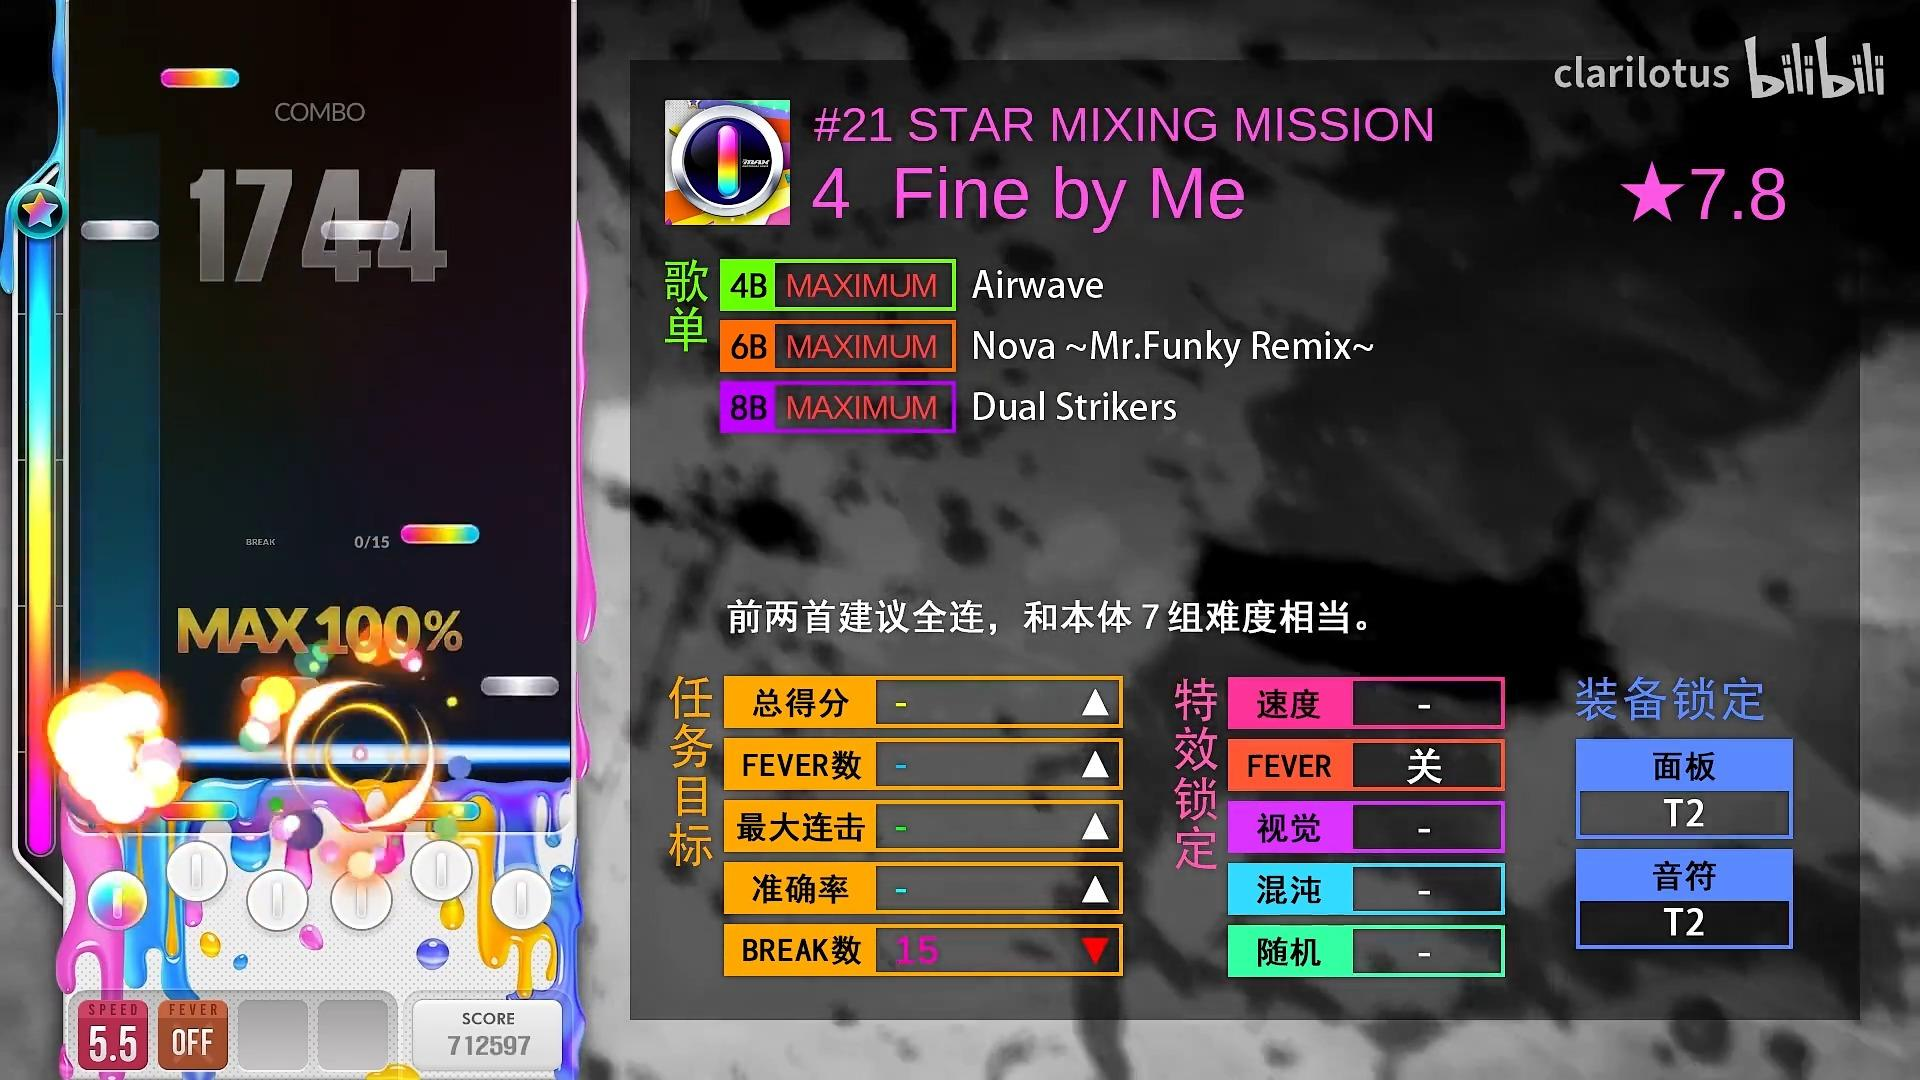note: (80, 220, 160, 241), (320, 219, 400, 240), (401, 525, 480, 546), (161, 67, 239, 88), (481, 675, 559, 696)
